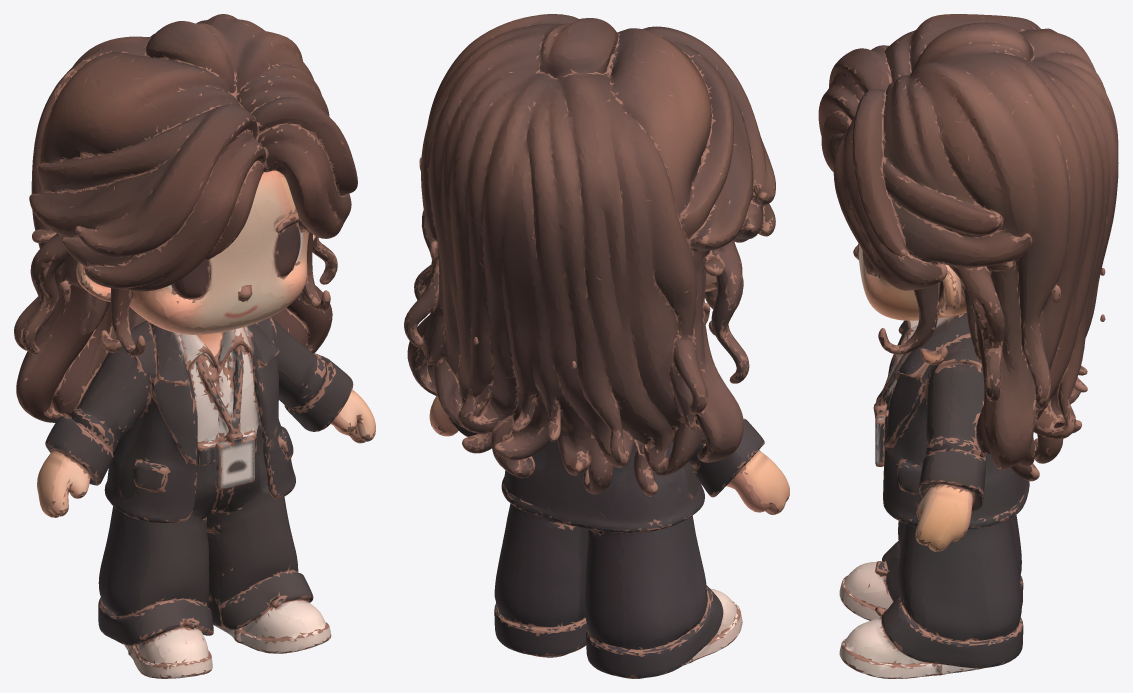
The model's file is Auditor.glb.
3 views of the same model, side by side, from view 1: azimuth 30°, elevation 25°; view 2: azimuth 150°, elevation 25°; view 3: azimuth 270°, elevation 25° (orthographic). The views are drawn at different scales.
Visible parts, largest first — view 1: geometry_0; view 2: geometry_0; view 3: geometry_0.
Part boxes in pixels (bbox=[...]): geometry_0: bbox=[14, 14, 375, 678]; geometry_0: bbox=[404, 14, 789, 678]; geometry_0: bbox=[818, 14, 1118, 678].
Bounding box in the file's own units: 0.0578 × 0.1 × 0.0443.
Materials: 1 (1 with a texture image).
